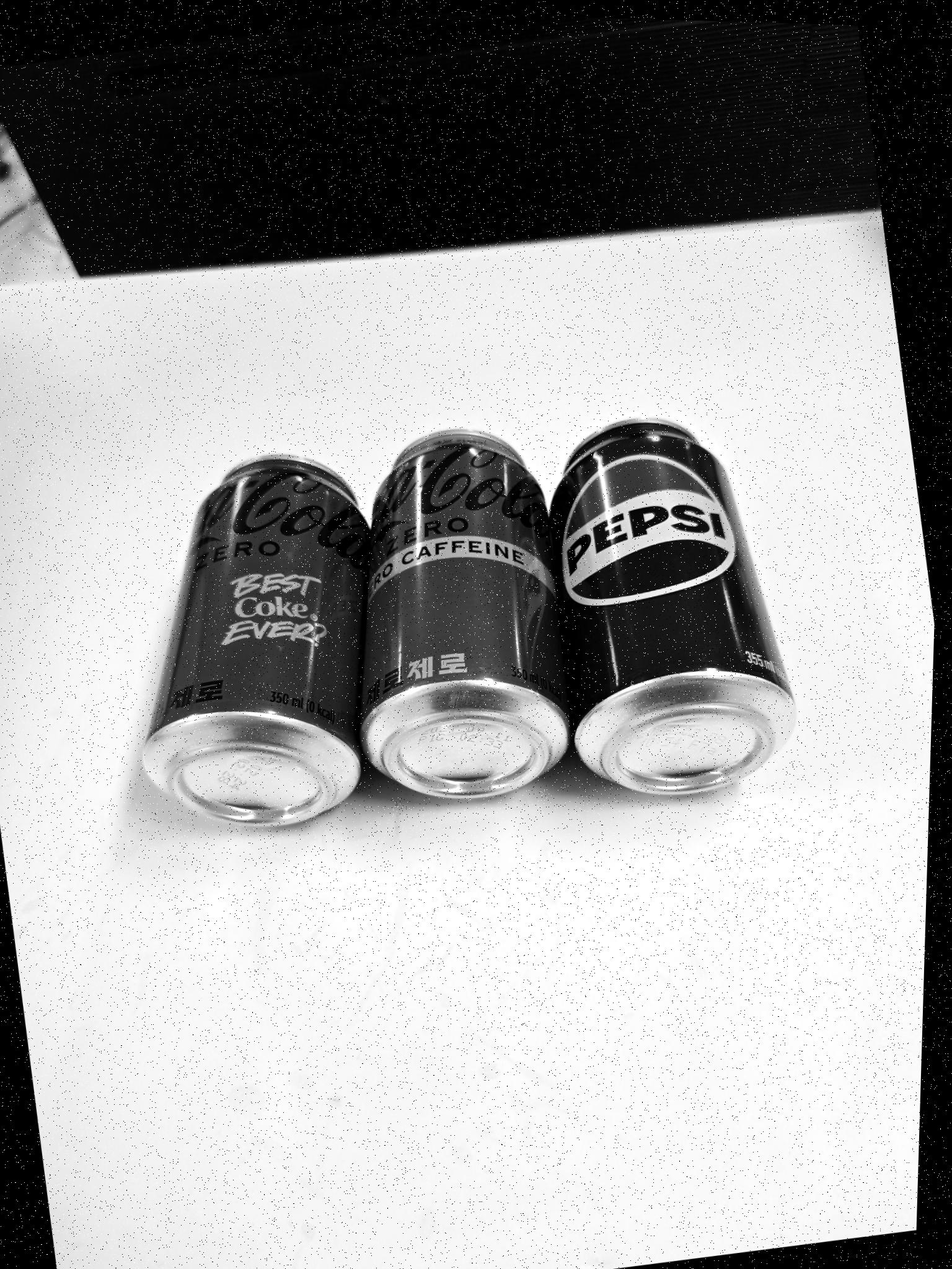can_coke_decaf: (368, 427, 571, 801)
can_coke_zero: (141, 455, 372, 831)
can_pepsi: (549, 414, 799, 794)
